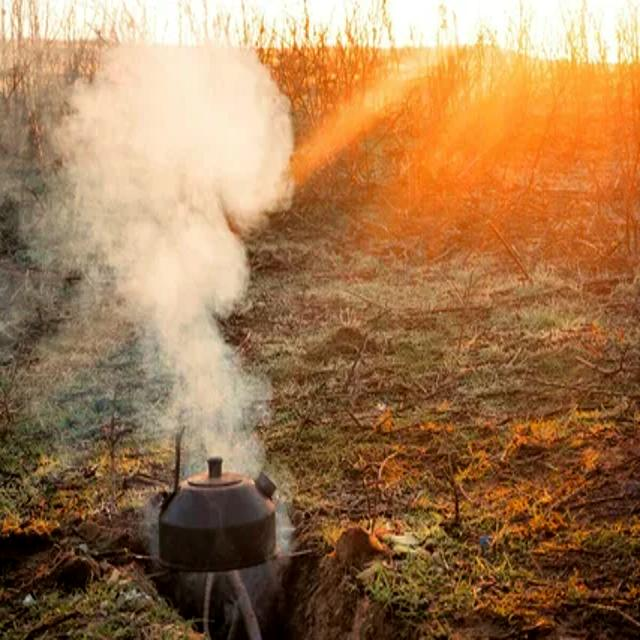no_helmet: (62, 29, 294, 463)
